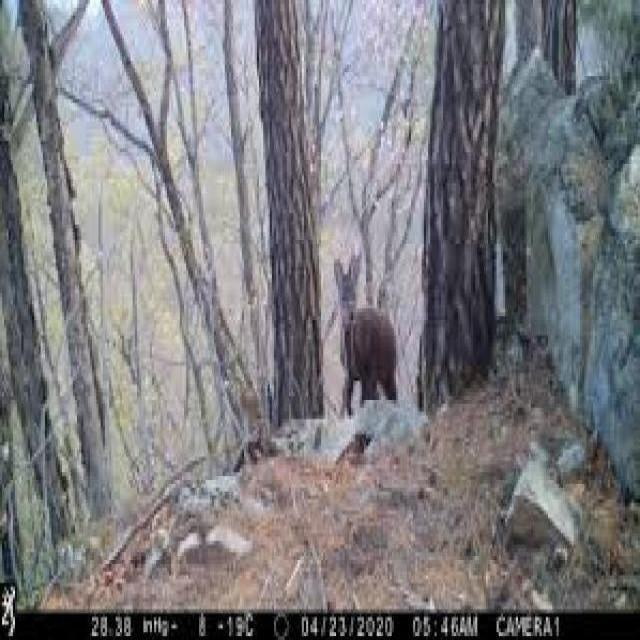deer: (316, 239, 414, 412)
